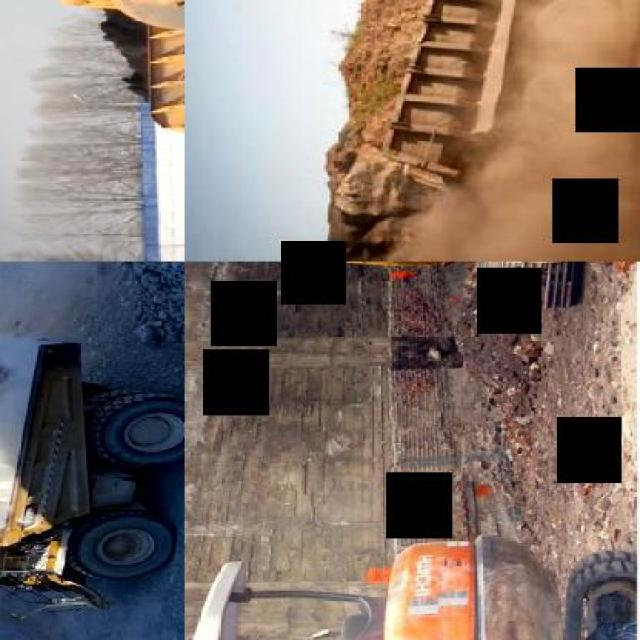buldozerpayloadergrader: (0, 0, 183, 151)
dump_truck: (0, 323, 183, 629), (371, 0, 638, 197)
excavator: (186, 537, 639, 638), (185, 262, 617, 310)
